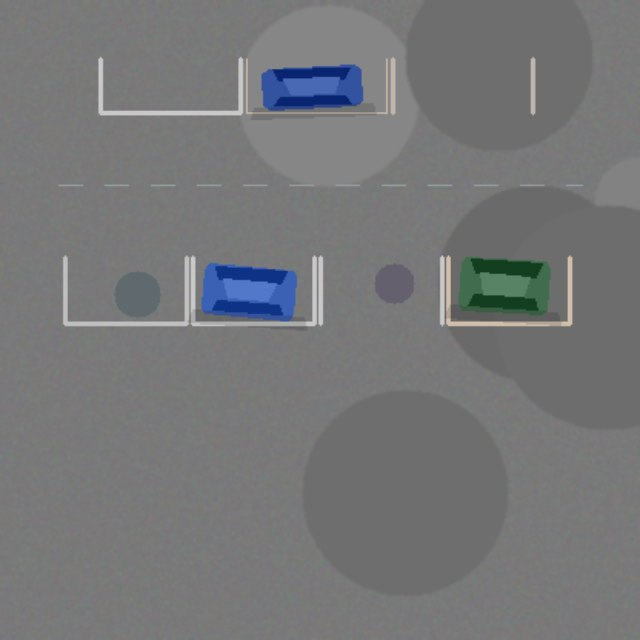space-empty: (320, 257, 442, 323), (65, 257, 186, 323), (100, 58, 240, 112), (392, 58, 532, 112)
space-occupied: (192, 257, 314, 323), (448, 257, 569, 323), (246, 58, 386, 112)
